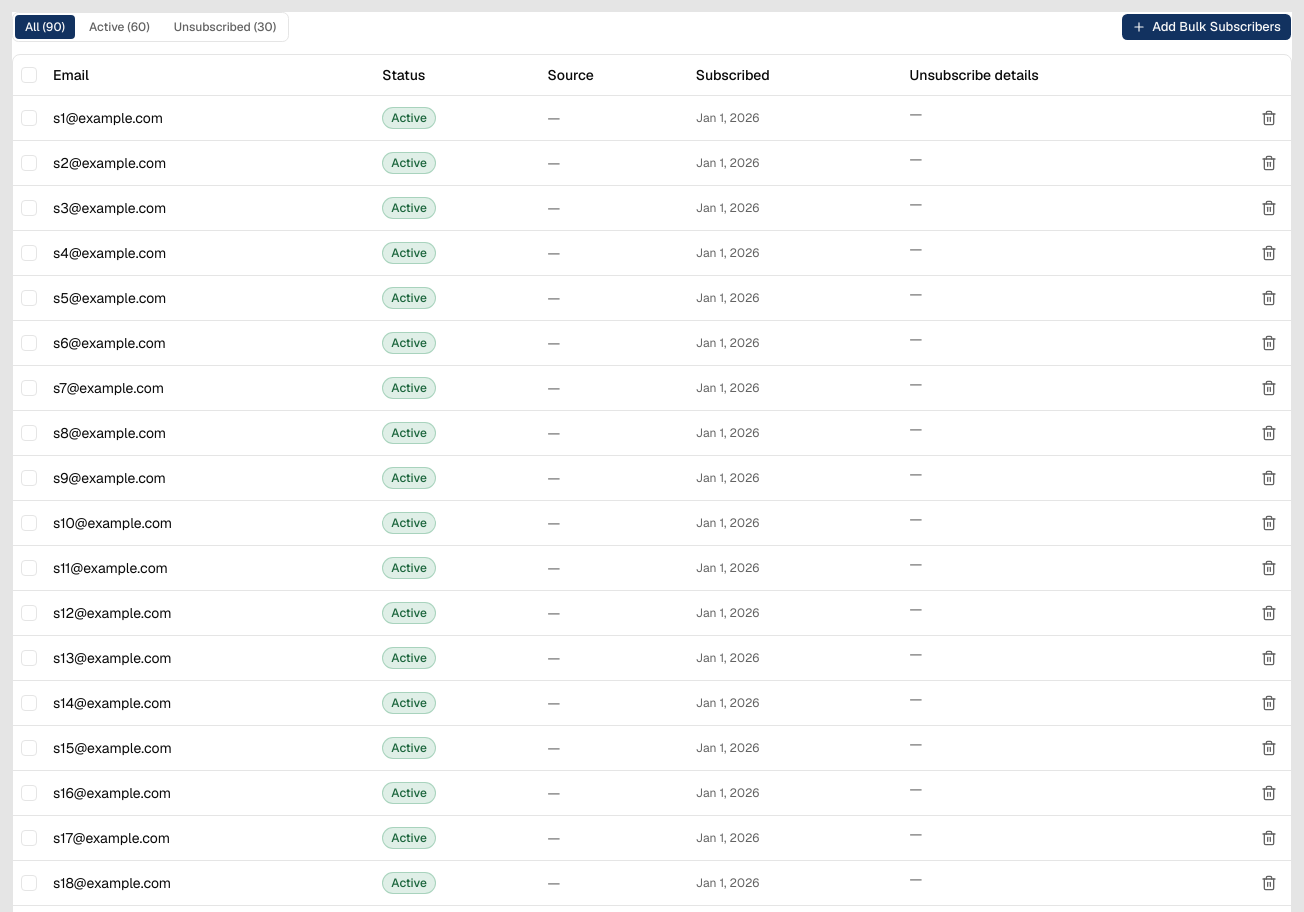
Test: SubscriberList — cross-page 'select all matching filter' (Pass 8 §2, Option B) › offers 'select all N matching this filter' once every row on the current page is selected and more exist
Click the checkbox named "Select all subscribers on this page": (29, 75) [21,67,37,83]
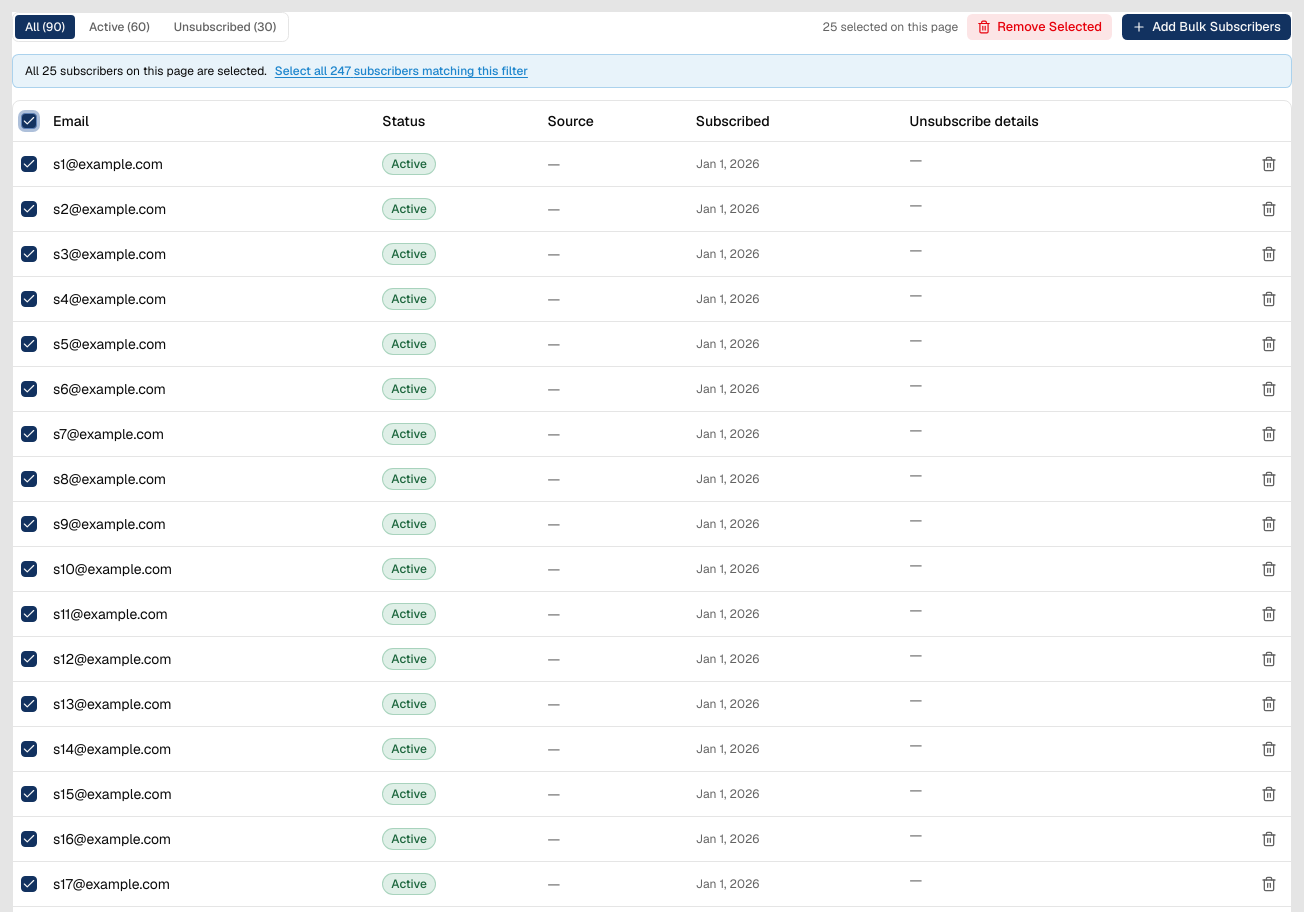
Result: the button "Select all 247 subscribers matching this filter" is shown at [275,63,528,79]
